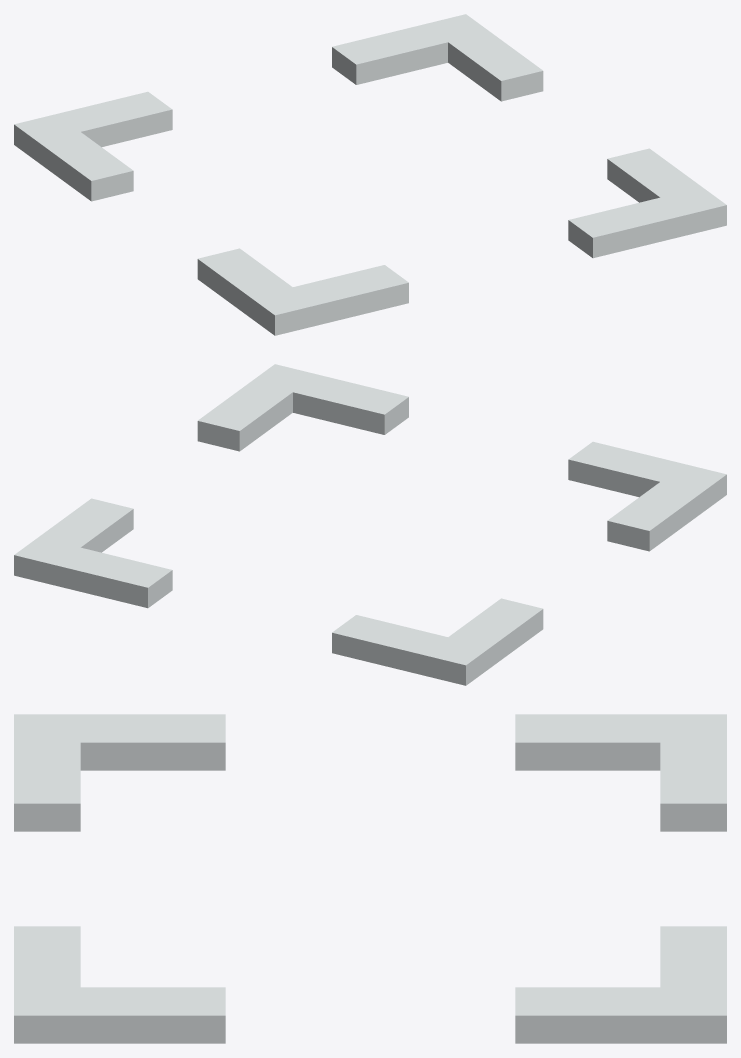
Rendered from sideModel.fbx.
The picture shows the model from 3 angles, top to bottom: view 1: azimuth 30°, elevation 25°; view 2: azimuth 150°, elevation 25°; view 3: azimuth 270°, elevation 25°; orthographic projection. The views are drawn at different scales.
Visible parts, largest first — view 1: 平面.002; view 2: 平面.002; view 3: 平面.002.
Part boxes in pixels (x1=…): 平面.002: x1=14, y1=14, x2=726, y2=335; 平面.002: x1=14, y1=364, x2=726, y2=685; 平面.002: x1=14, y1=714, x2=726, y2=1043.
Bounding box in the file's own units: 200 × 8.66 × 200.
